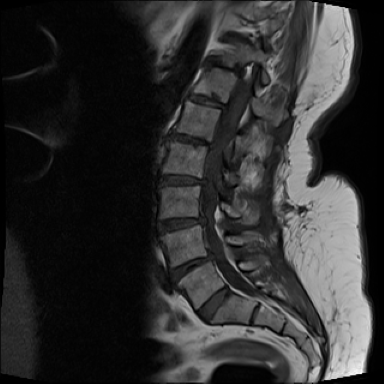Degenerative Disc Disease (DDD): (187, 91, 231, 114), (199, 58, 246, 79), (168, 130, 217, 149), (220, 29, 255, 48)
Lumbar Disc Bulge (LDB): (164, 249, 218, 291), (154, 211, 213, 241), (154, 170, 211, 193), (167, 128, 219, 153)
Normal IVD: (190, 283, 237, 328)
Spinal Stenosis (SS): (194, 167, 211, 194), (192, 211, 210, 233), (202, 245, 219, 268), (204, 137, 220, 154)
